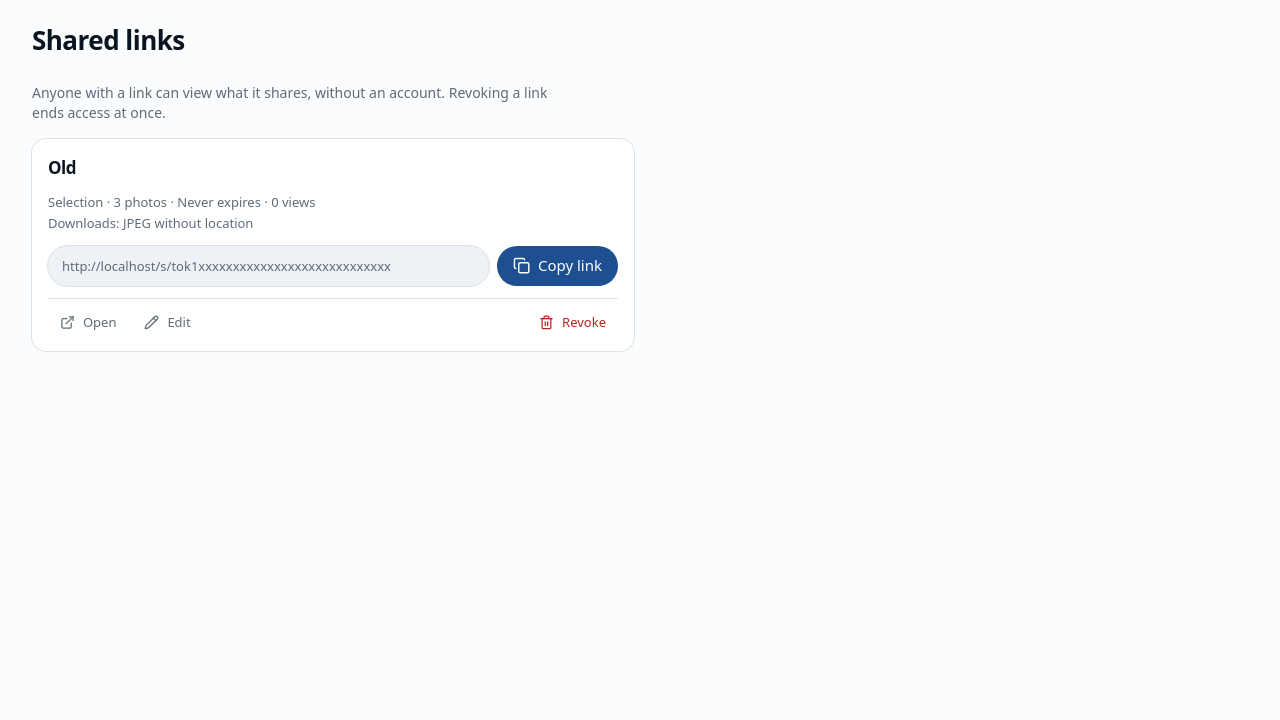
Test case: SharedLinks › edits a link and shows the saved state
Expected: the list named "Shared links" is shown, [32, 139, 634, 350]
Click the button "Edit".
click(168, 322)  # box [132, 306, 203, 338]
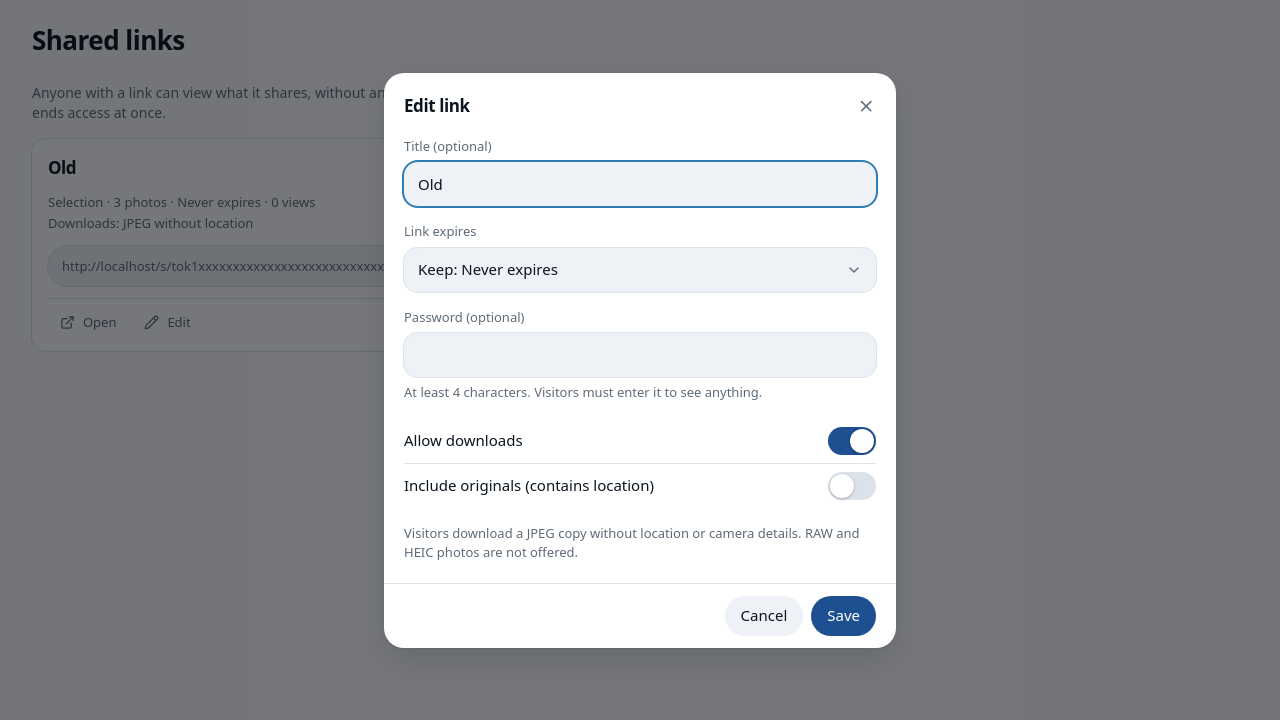
Replace the text in the field labelled "Title (optional)" with "New" at (640, 184), box [404, 162, 876, 206]
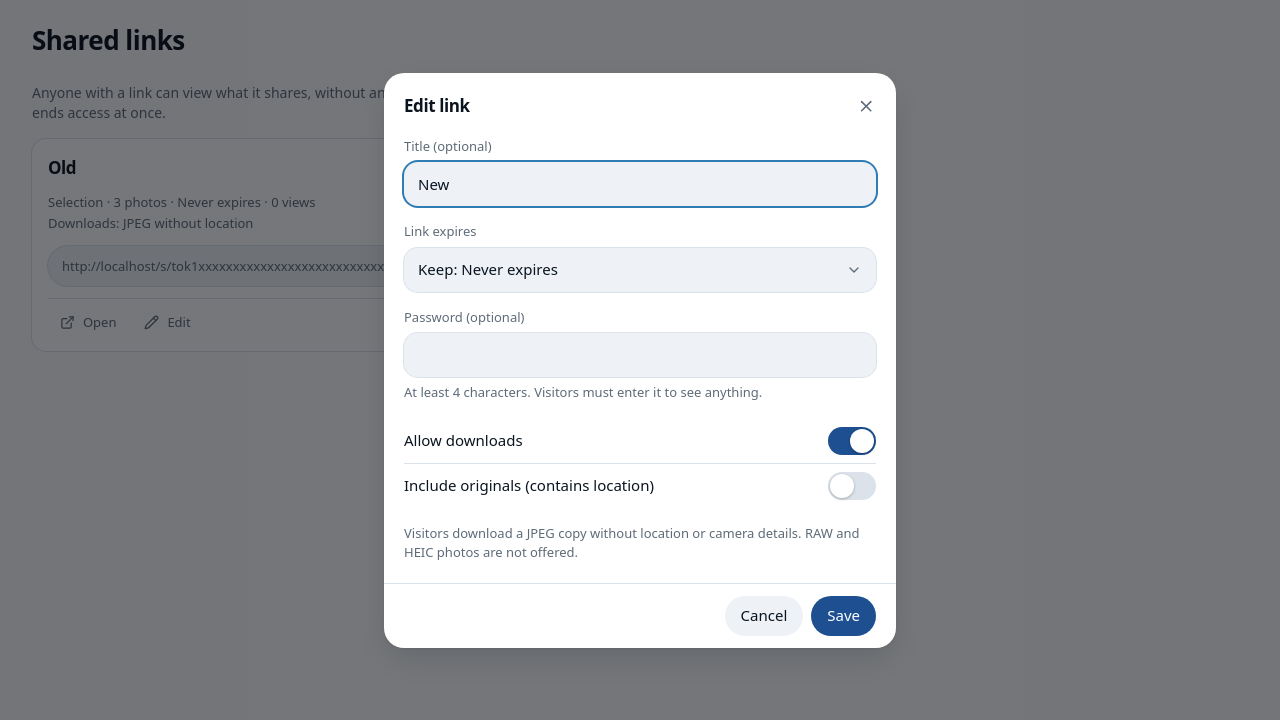
Type "abcd1234" into the password field labelled "Password (optional)".
click(640, 355); type("abcd1234")  # box [404, 333, 876, 377]
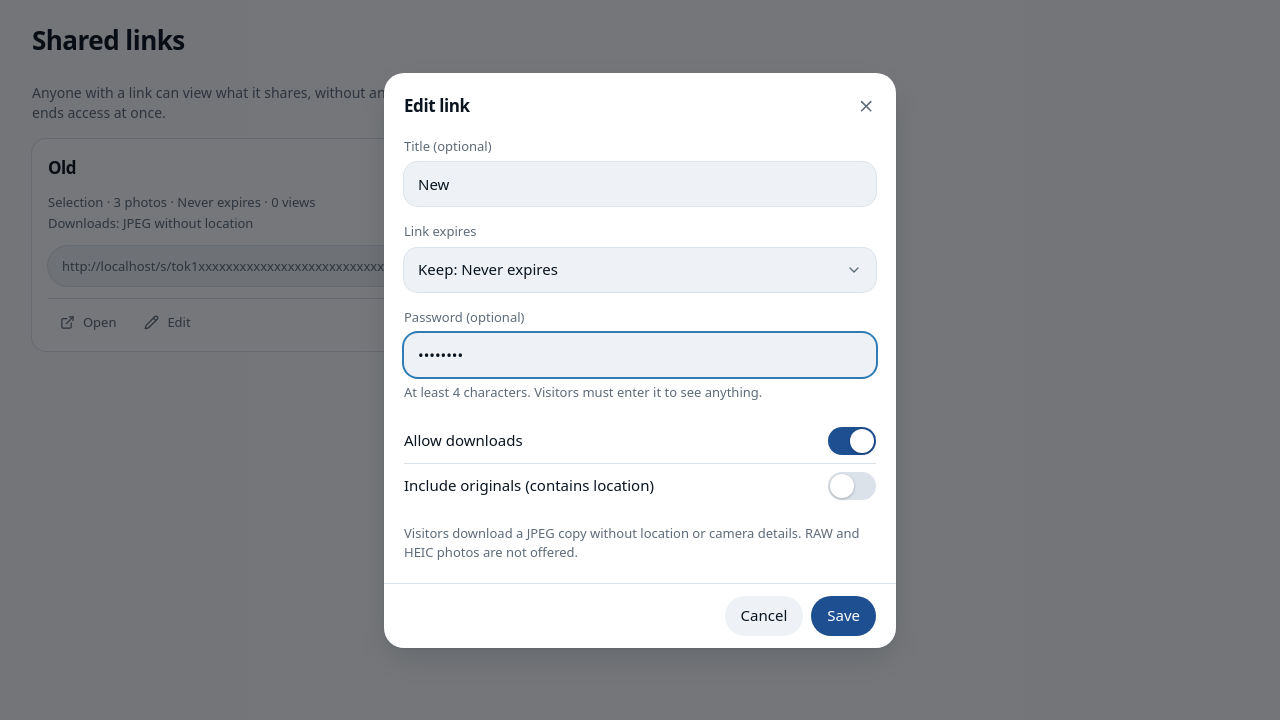
Click the button "Save".
click(844, 616)  # box [811, 596, 876, 636]
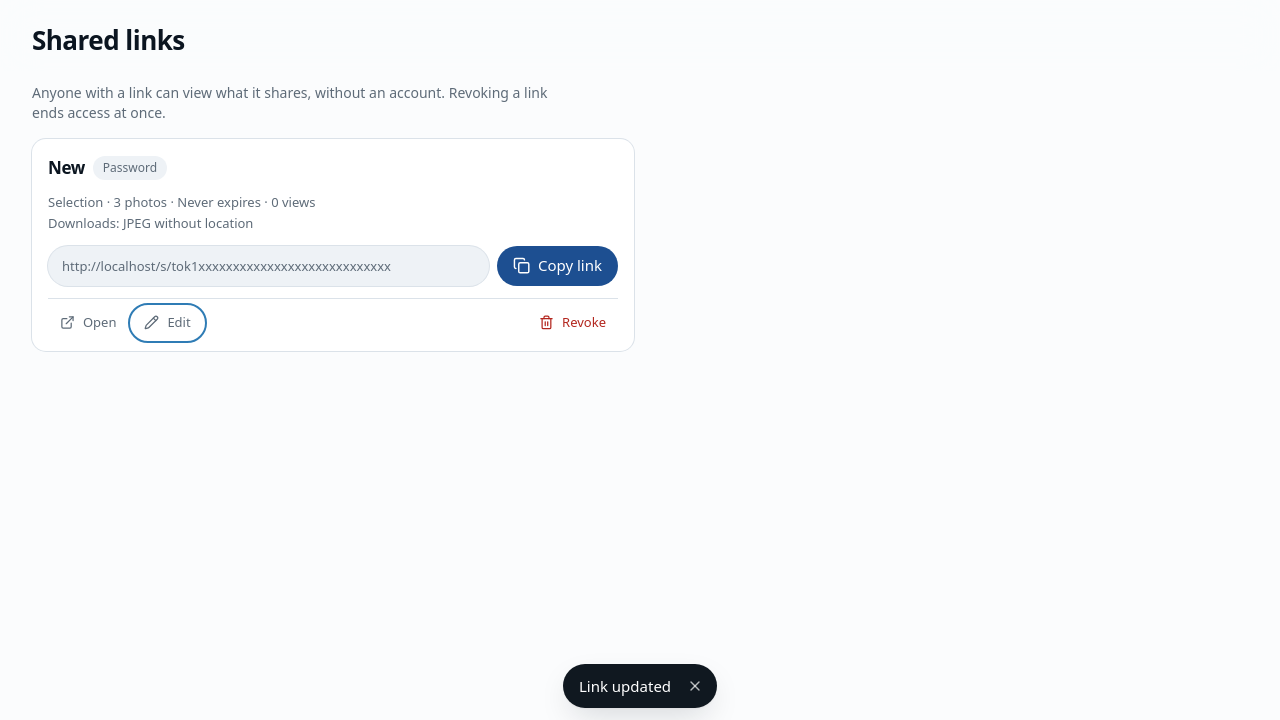
Now the text "Password" is shown, box [93, 156, 167, 180]
Now the text "Link updated" is shown, box [579, 672, 671, 700]
Now the text "New" is shown, box [48, 155, 85, 180]
